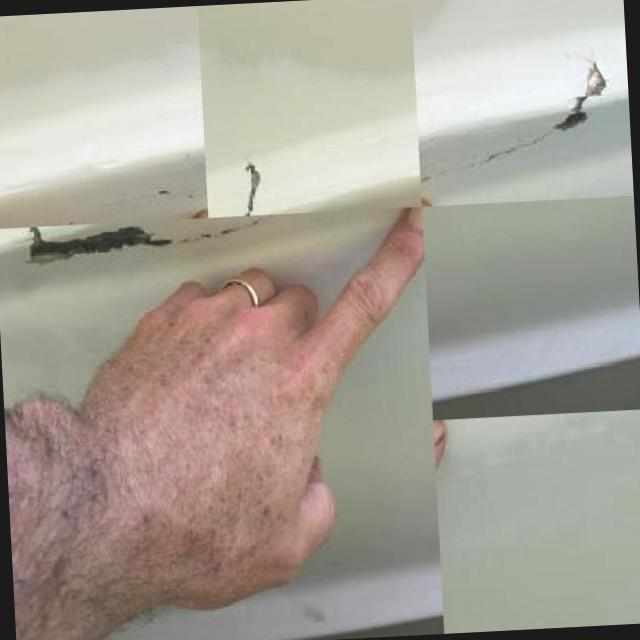crack: (555, 60, 604, 130), (149, 219, 264, 248), (486, 133, 560, 159), (242, 161, 264, 215)
